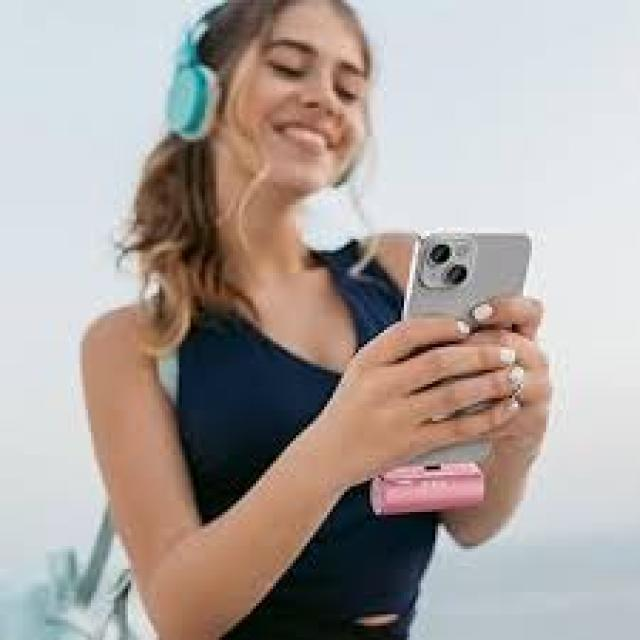power_bank: (365, 458, 490, 519)
